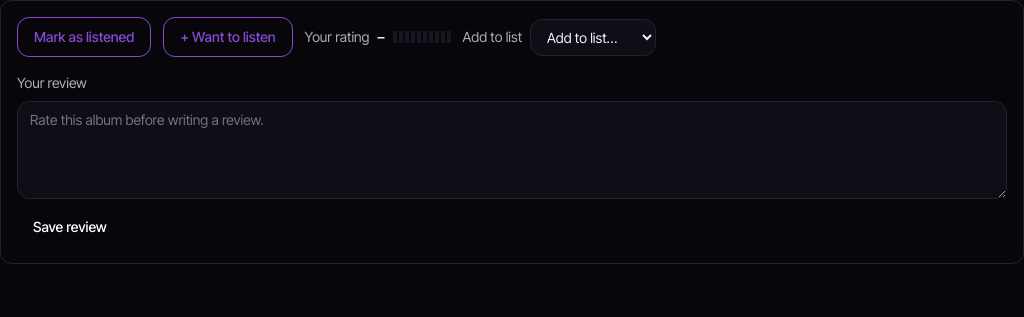
AlbumActions — add to list › clears a stale confirmation when the next action starts
Select "Best of 2026" in the dropdown labelled "Add to list" at coordinates (593, 37), box top-left (530, 18), bottom-right (656, 56)
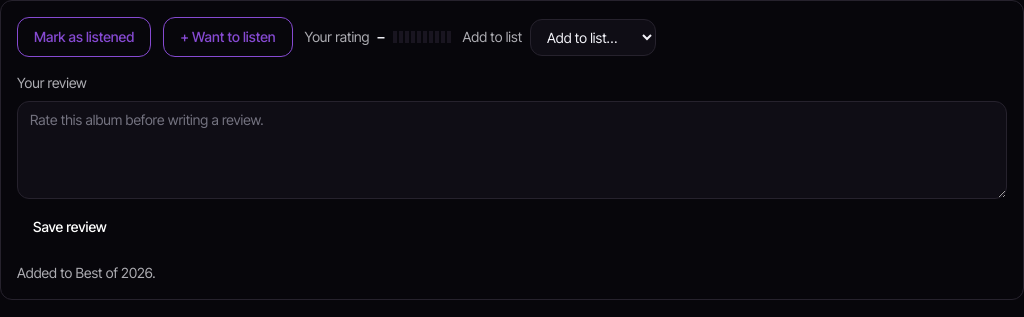
Check: the message reads "Added to Best of 2026.", box top-left (17, 264), bottom-right (156, 281)
Click the button "Mark as listened" at coordinates (84, 37), box top-left (17, 17), bottom-right (151, 57)
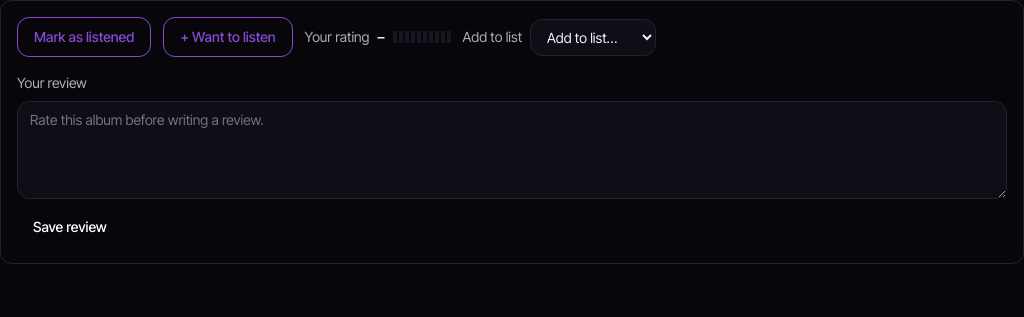
Check: the message "Added to Best of 2026." is gone
